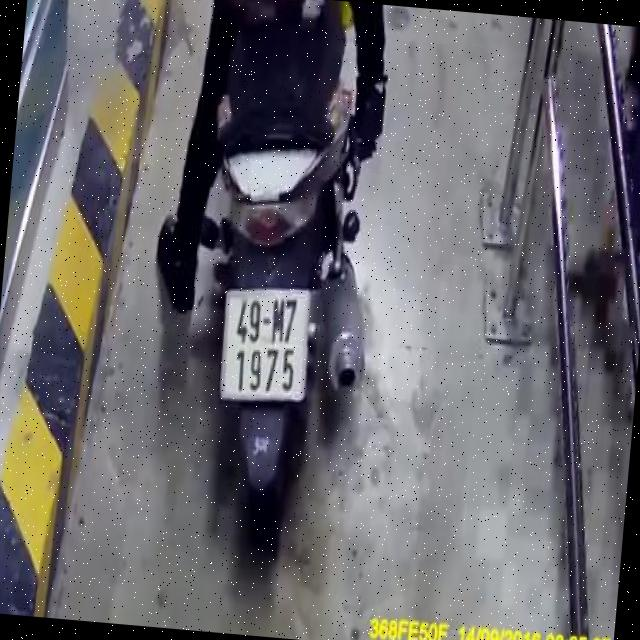license_plate: (218, 290, 316, 408)
